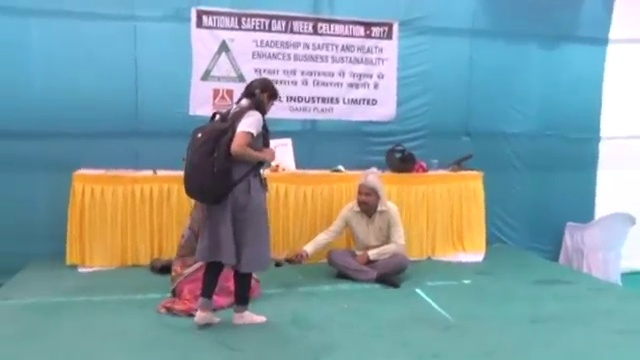helmet_off: (241, 79, 279, 117), (355, 181, 380, 215)
person: (181, 77, 280, 325), (286, 181, 410, 289)
